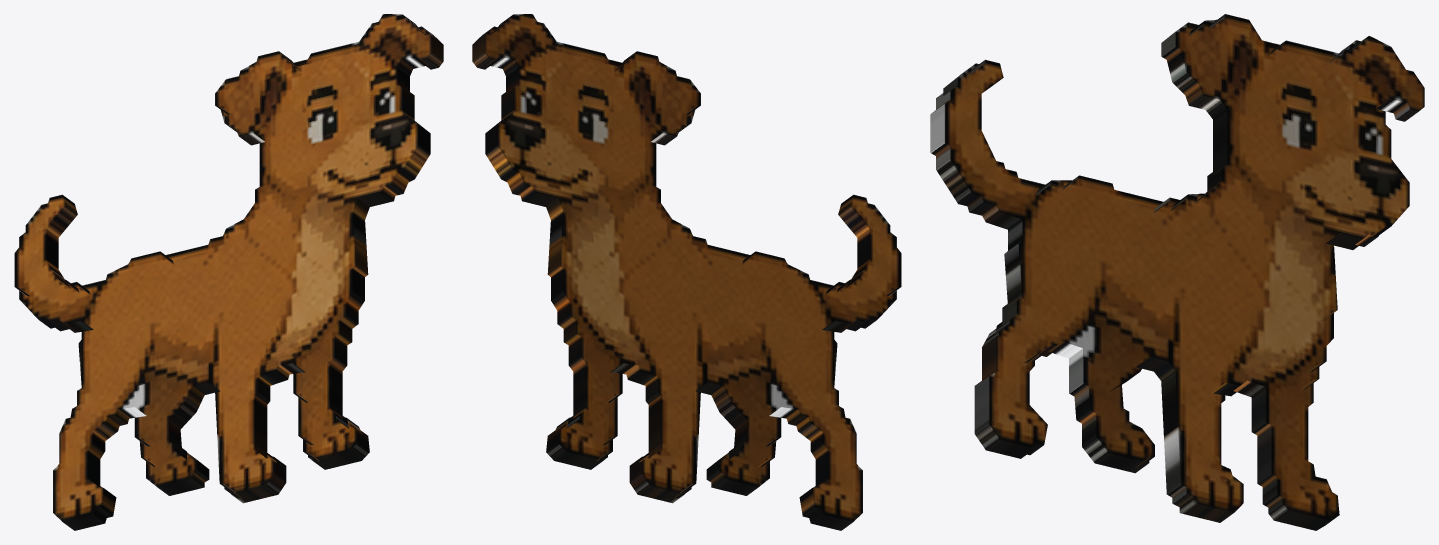
The model's file is dog_idle.glb.
The picture shows the model from 3 angles, left to right: view 1: azimuth 30°, elevation 25°; view 2: azimuth 150°, elevation 25°; view 3: azimuth 330°, elevation 25°; orthographic projection. The views are drawn at different scales.
Visible parts, largest first — view 1: world; view 2: world; view 3: world.
Boxes of the visible parts, bbox=[...] form: world: bbox=[14, 14, 443, 530]; world: bbox=[472, 14, 901, 530]; world: bbox=[930, 14, 1424, 530].
Size of the model in its own units: 2.6 by 2.64 by 0.1325.
1 material, 1 textured.
